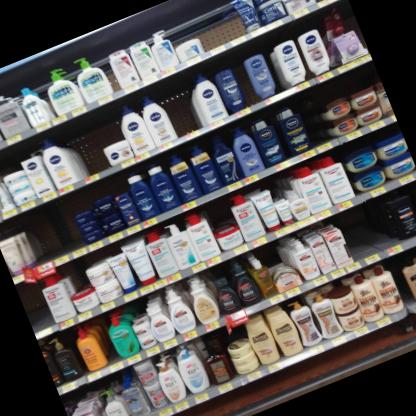empty_space: (337, 200, 397, 266), (26, 204, 86, 262), (192, 0, 246, 51), (70, 125, 113, 180), (161, 86, 202, 139), (17, 282, 54, 334), (301, 102, 331, 145), (230, 61, 258, 106)
